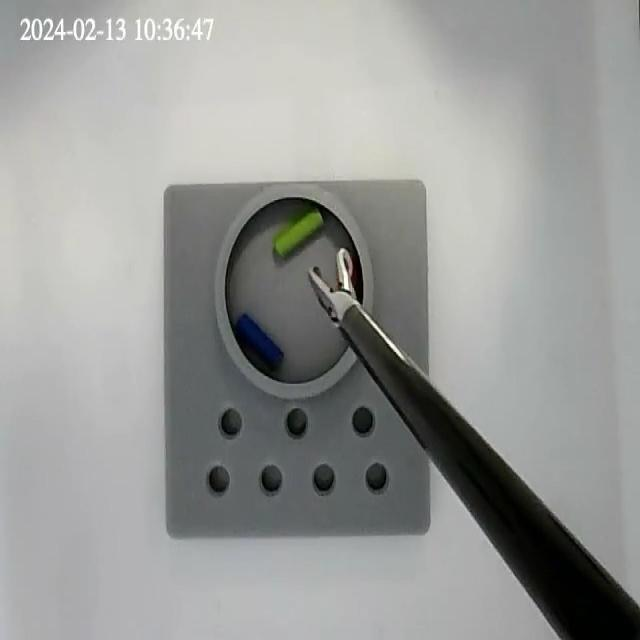EmptyHole: (202, 460, 232, 500), (362, 456, 391, 497), (215, 403, 245, 442), (255, 459, 284, 498), (281, 404, 309, 442), (311, 459, 337, 498), (351, 404, 375, 439)
